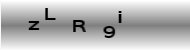9: (101, 25, 115, 38)
L: (43, 7, 56, 21)
R: (71, 18, 86, 32)
i: (117, 9, 122, 24)
z: (27, 20, 40, 31)
